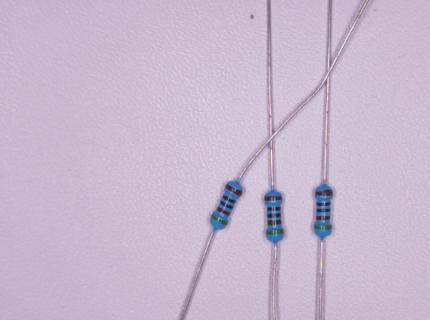Black band: (219, 200, 234, 210), (222, 194, 236, 204), (316, 208, 331, 213), (267, 206, 281, 211), (267, 213, 281, 218), (317, 202, 331, 206)
Brown band: (225, 183, 243, 197), (216, 206, 231, 216), (315, 191, 333, 196), (265, 196, 282, 201), (268, 220, 281, 225), (316, 216, 331, 220)
Green band: (211, 214, 228, 225), (266, 230, 284, 235), (314, 225, 332, 230)
